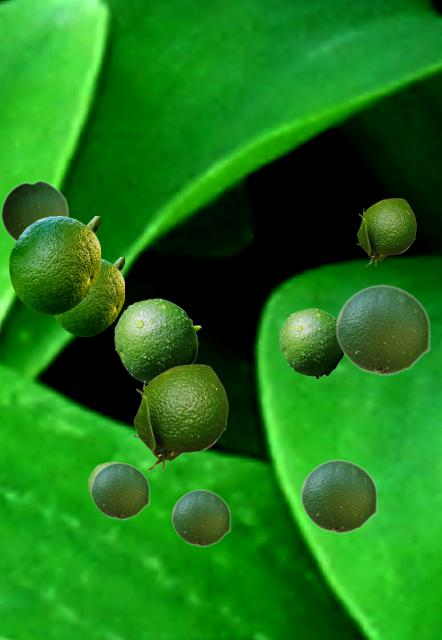dalandan: (132, 364, 227, 470), (9, 216, 99, 313), (335, 284, 430, 375), (114, 298, 200, 383), (300, 459, 377, 533), (52, 257, 123, 335), (279, 308, 343, 378), (0, 179, 68, 241), (356, 198, 415, 265), (171, 489, 230, 546), (90, 462, 149, 519), (88, 461, 119, 493)
